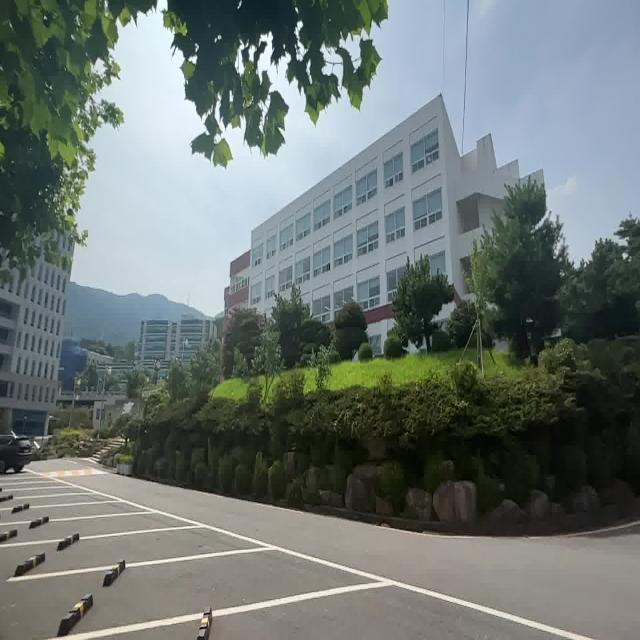building: (217, 158, 468, 301)
